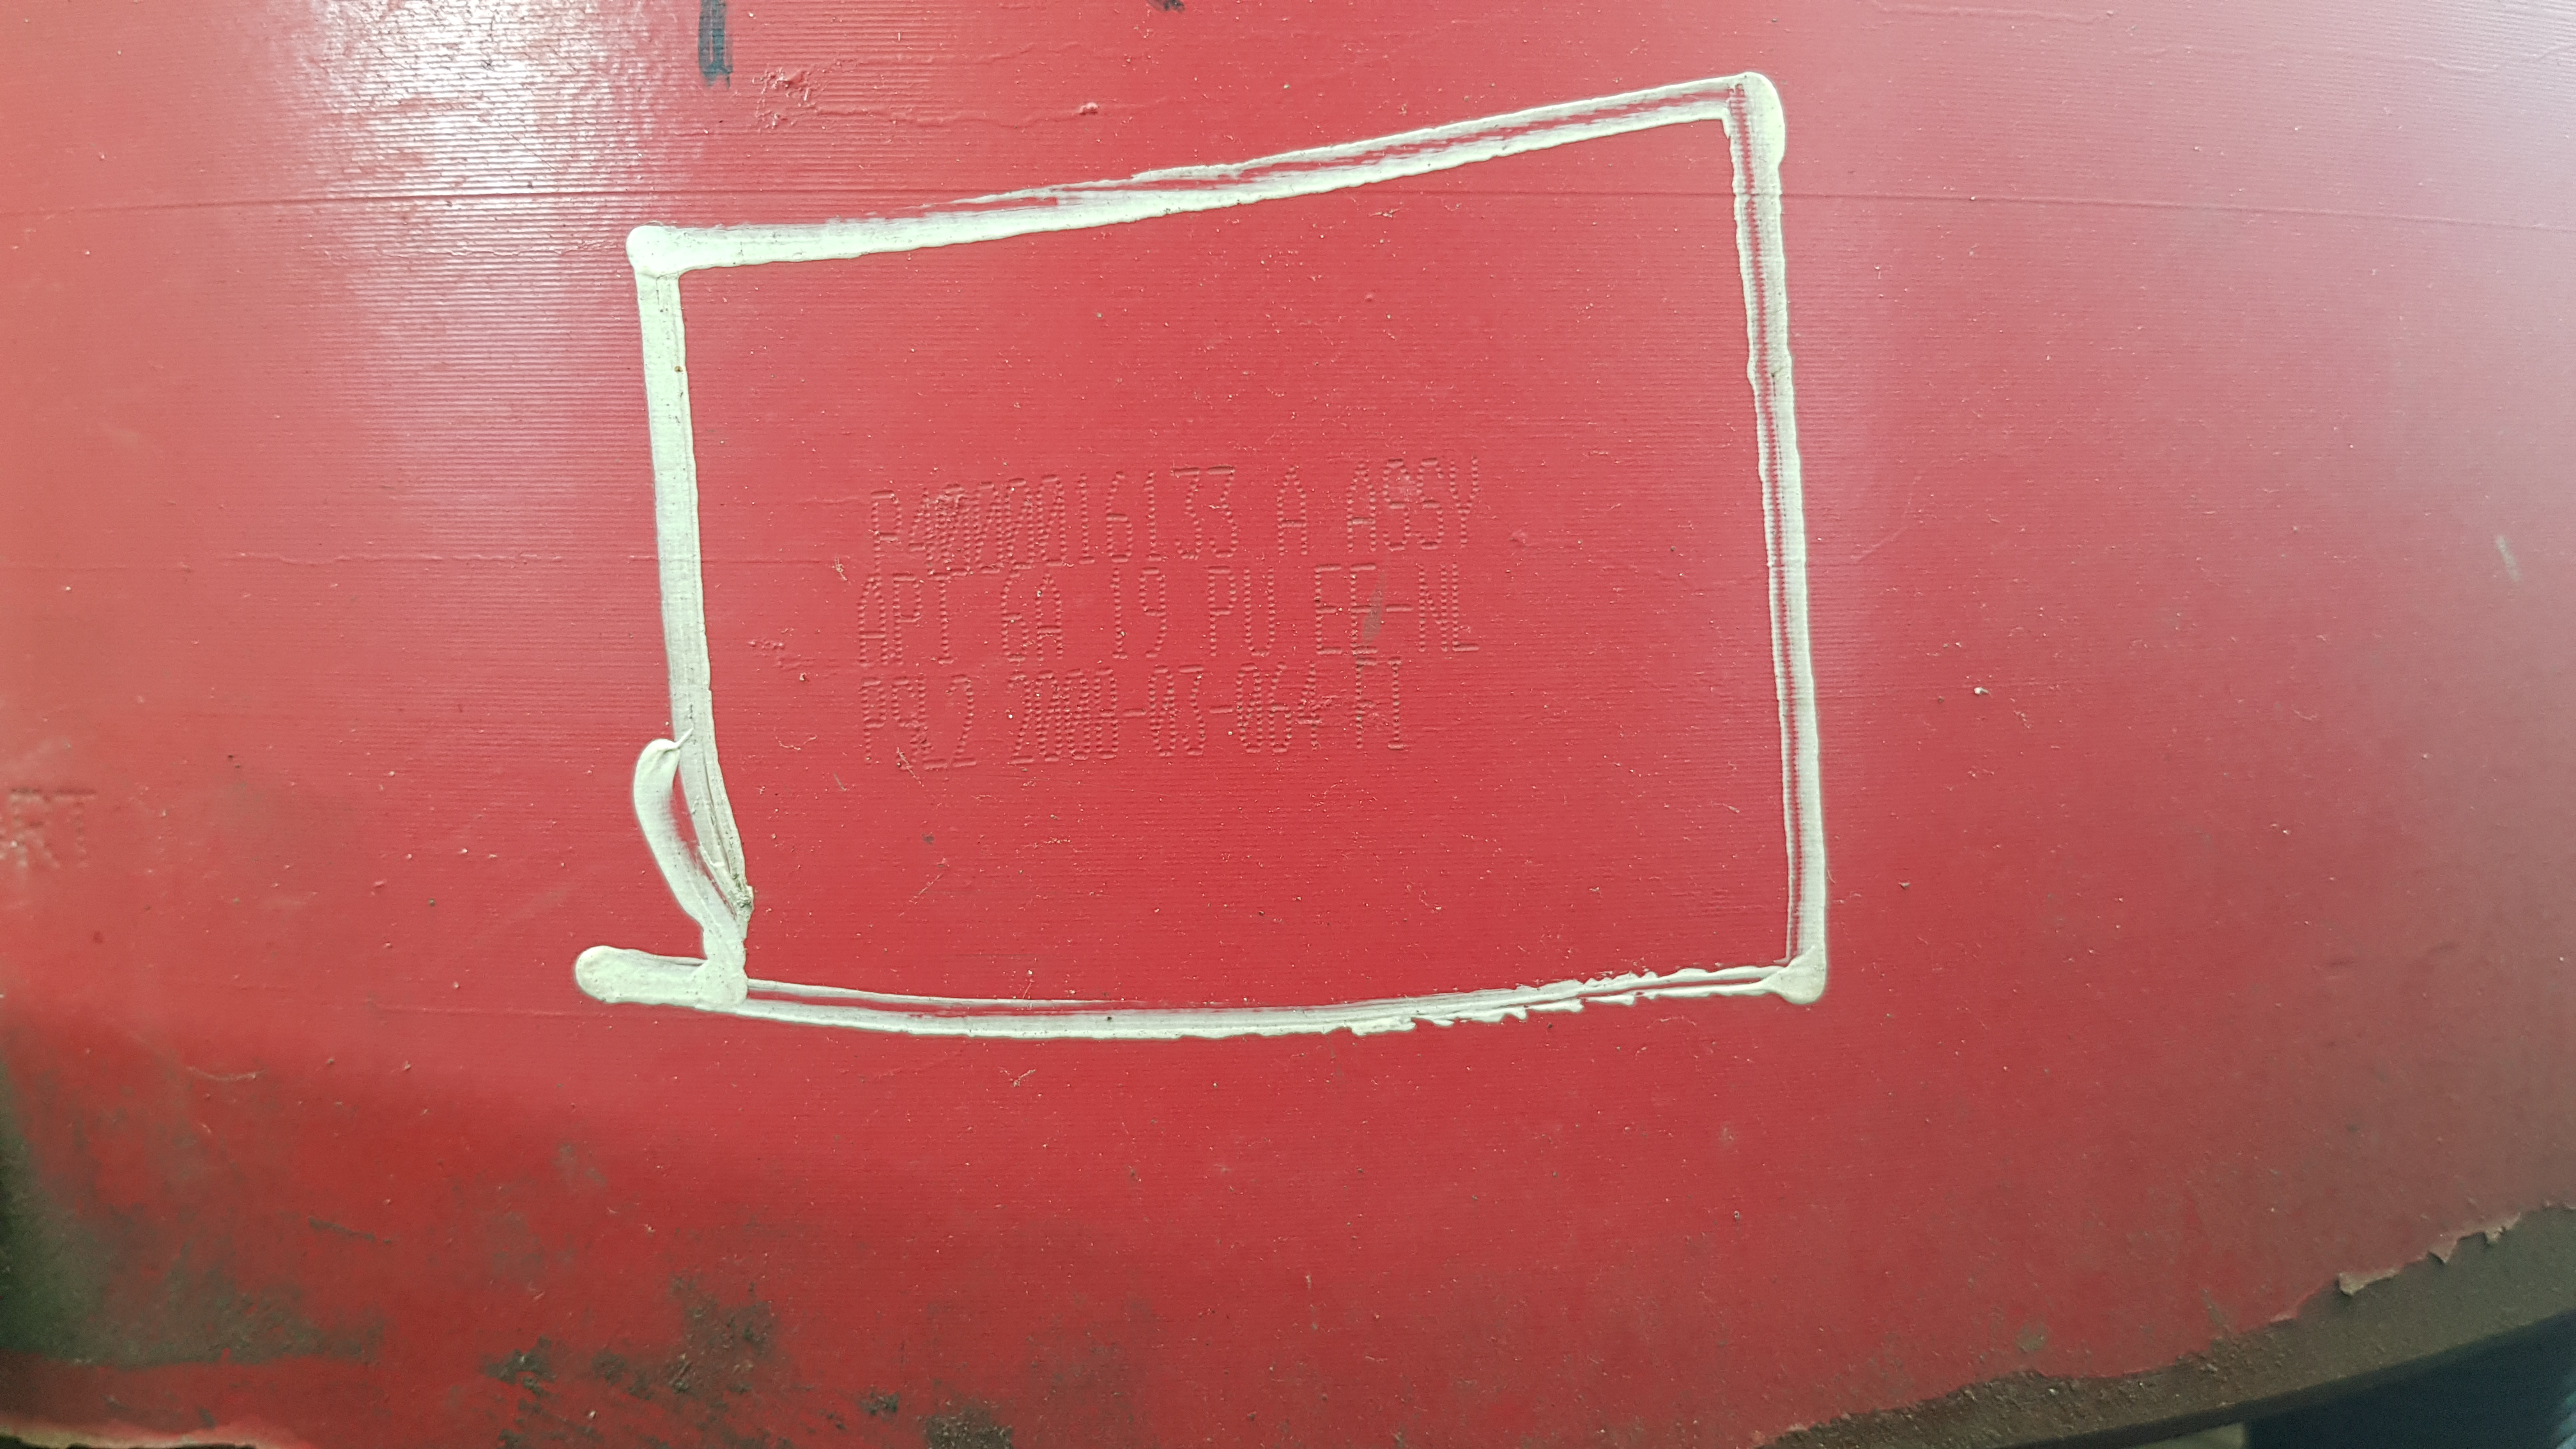character: (863, 485, 909, 577), (1238, 561, 1281, 660), (1341, 455, 1382, 556), (1134, 566, 1175, 665), (1203, 464, 1244, 561), (1171, 460, 1208, 564), (1099, 469, 1139, 563), (1035, 471, 1072, 573), (886, 570, 925, 667), (994, 568, 1033, 665), (1380, 456, 1417, 557), (1345, 561, 1384, 656), (1005, 667, 1039, 775), (936, 481, 973, 577), (1233, 662, 1270, 757), (1447, 453, 1483, 552), (915, 672, 948, 775), (1003, 474, 1039, 571), (1277, 460, 1313, 557), (1415, 559, 1451, 656), (1309, 563, 1345, 658), (947, 672, 980, 771), (1415, 453, 1447, 557), (1030, 669, 1063, 766), (1146, 665, 1180, 761), (1178, 660, 1210, 761), (1033, 571, 1069, 662), (1201, 566, 1237, 656), (971, 479, 1005, 573), (855, 672, 890, 761), (888, 676, 920, 773), (925, 571, 959, 663), (1139, 469, 1171, 564), (1090, 667, 1120, 768), (856, 573, 888, 667), (1447, 561, 1479, 655), (1062, 667, 1092, 766), (909, 483, 939, 580), (1104, 566, 1134, 662), (1384, 656, 1410, 761), (1352, 656, 1380, 752), (1070, 472, 1099, 566), (1297, 660, 1323, 750), (1267, 663, 1292, 757), (1385, 602, 1415, 621), (1120, 704, 1146, 725), (1205, 702, 1235, 720)
